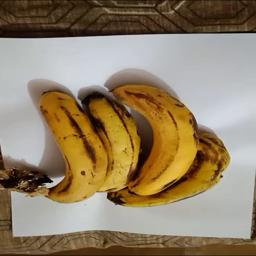Banana Semifresh: (15, 85, 109, 203), (113, 80, 202, 200), (81, 89, 147, 205)
